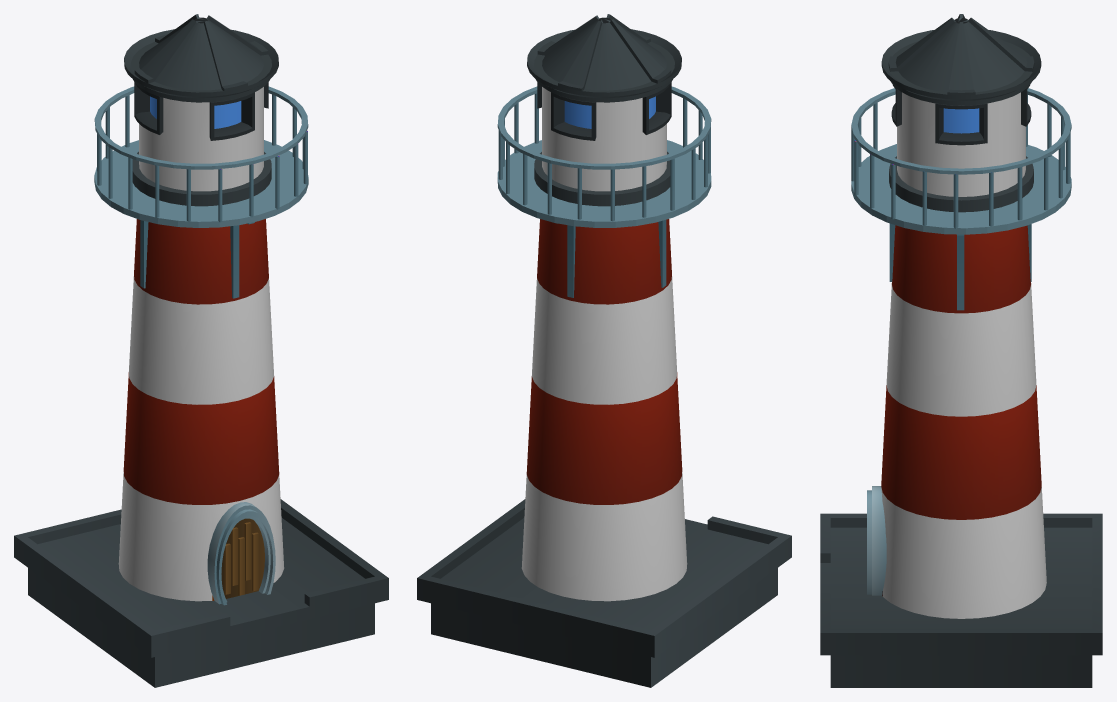
The model's file is Lighthouse.fbx.
3 renders of one model, left to right at view 1: azimuth 30°, elevation 25°; view 2: azimuth 150°, elevation 25°; view 3: azimuth 270°, elevation 25°, orthographic. The views are drawn at different scales.
Visible parts, largest first — view 1: Lighthouse_LOD0; view 2: Lighthouse_LOD0; view 3: Lighthouse_LOD0.
Part boxes in pixels (x1,y1,x2,y2): Lighthouse_LOD0: (14, 14, 388, 687); Lighthouse_LOD0: (417, 14, 791, 687); Lighthouse_LOD0: (820, 14, 1102, 687).
Size of what is drawn, in the model's own units: 346 by 830 by 346.
